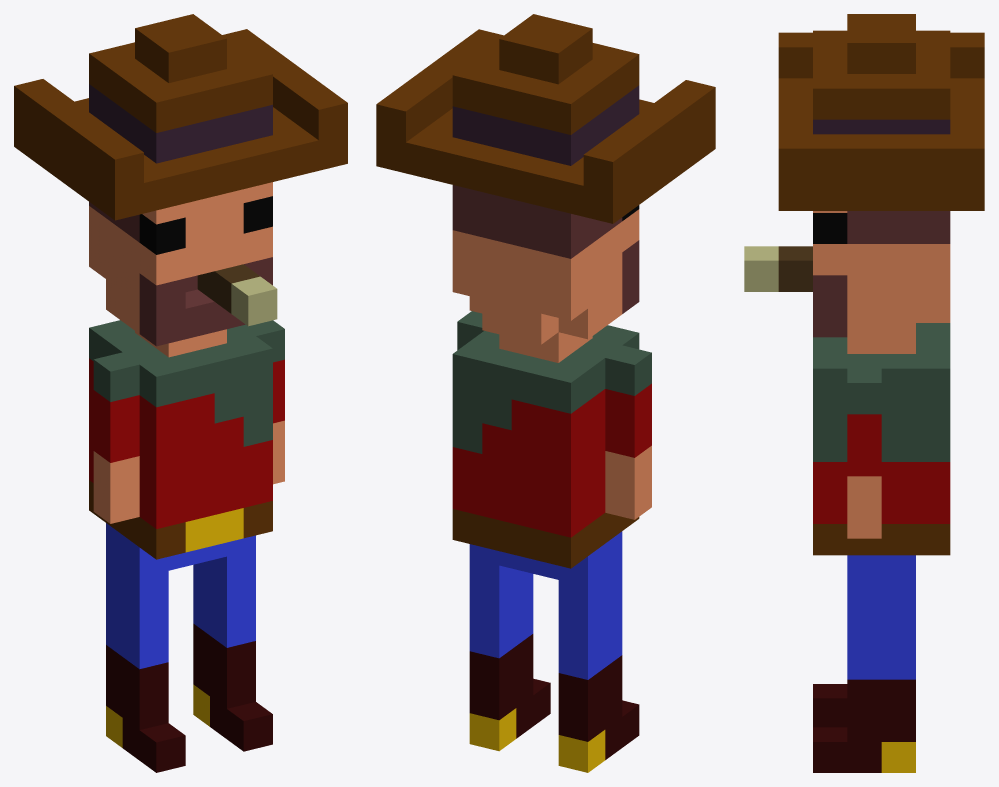
Rendered from cowboy.obj.
3 renders of one model, left to right at view 1: azimuth 30°, elevation 25°; view 2: azimuth 150°, elevation 25°; view 3: azimuth 270°, elevation 25°, orthographic. The views are drawn at different scales.
Visible parts, largest first — view 1: cowboy; view 2: cowboy; view 3: cowboy.
Part boxes in pixels (x1,y1,x2,y2): cowboy: [14, 14, 347, 772]; cowboy: [376, 14, 715, 772]; cowboy: [744, 14, 984, 772].
Bounding box in the file's own units: 8 × 23 × 7.
1 material, 1 textured.
